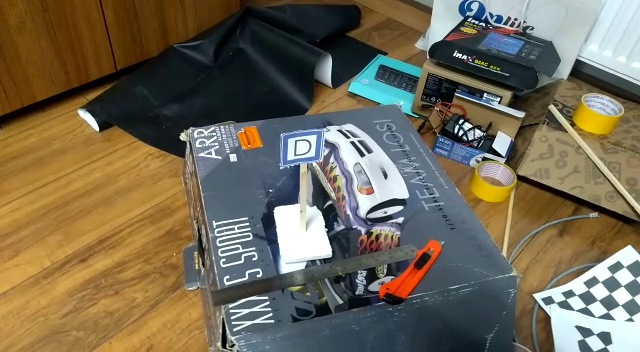durak: (280, 128, 325, 168)
